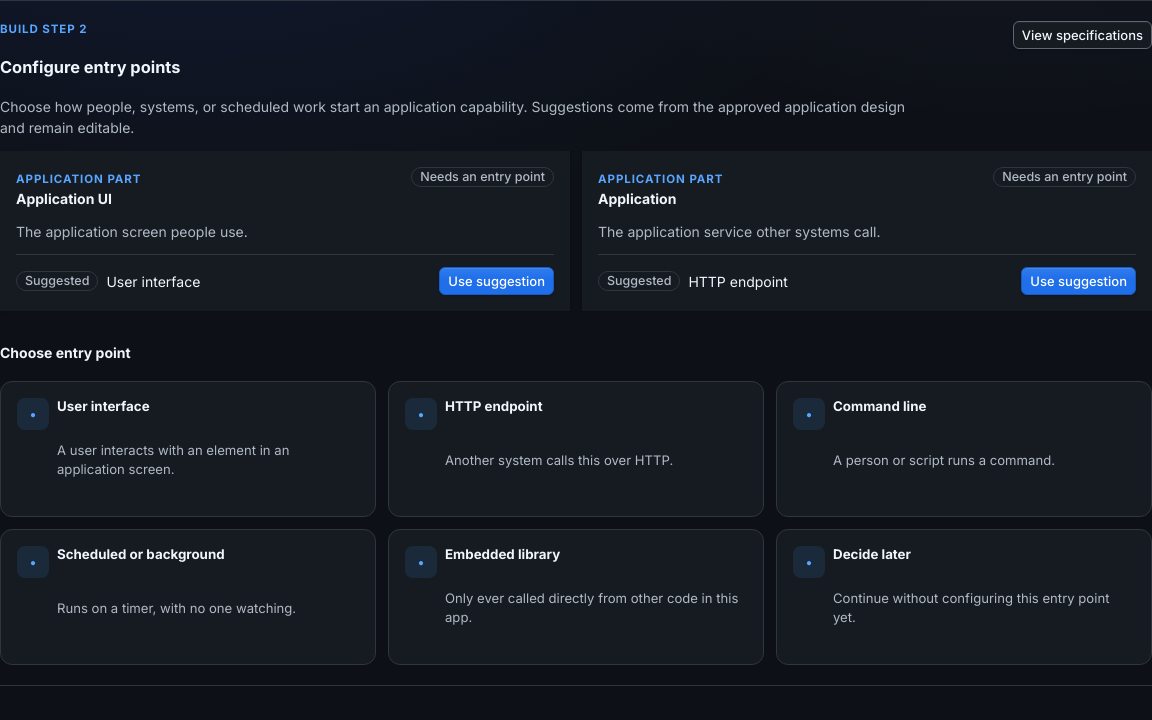
Test: guided connect isolation (WP6B trigger-first) › can configure a different application UI before element binding begins
Click the button "User interface" at (188, 449), box [0, 381, 376, 517]
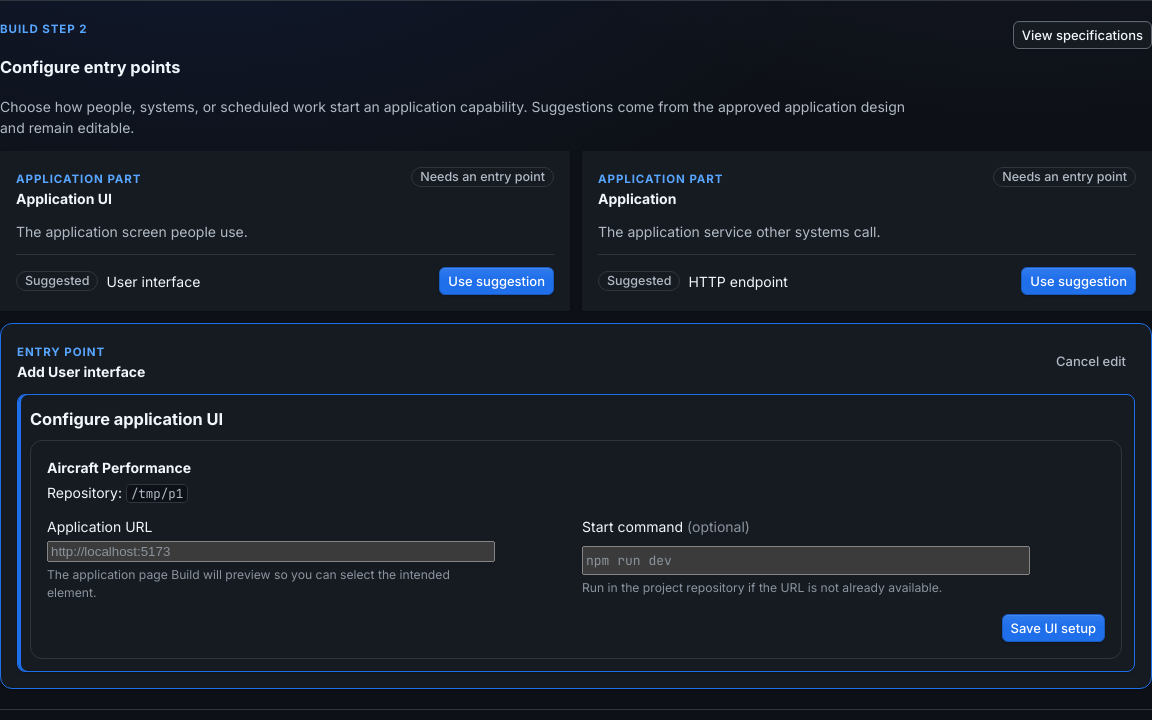
expect the field named "Application UI URL" is shown: met
Type "http://localhost:4400" into the field named "Application UI URL" at (271, 551), box [47, 541, 495, 562]
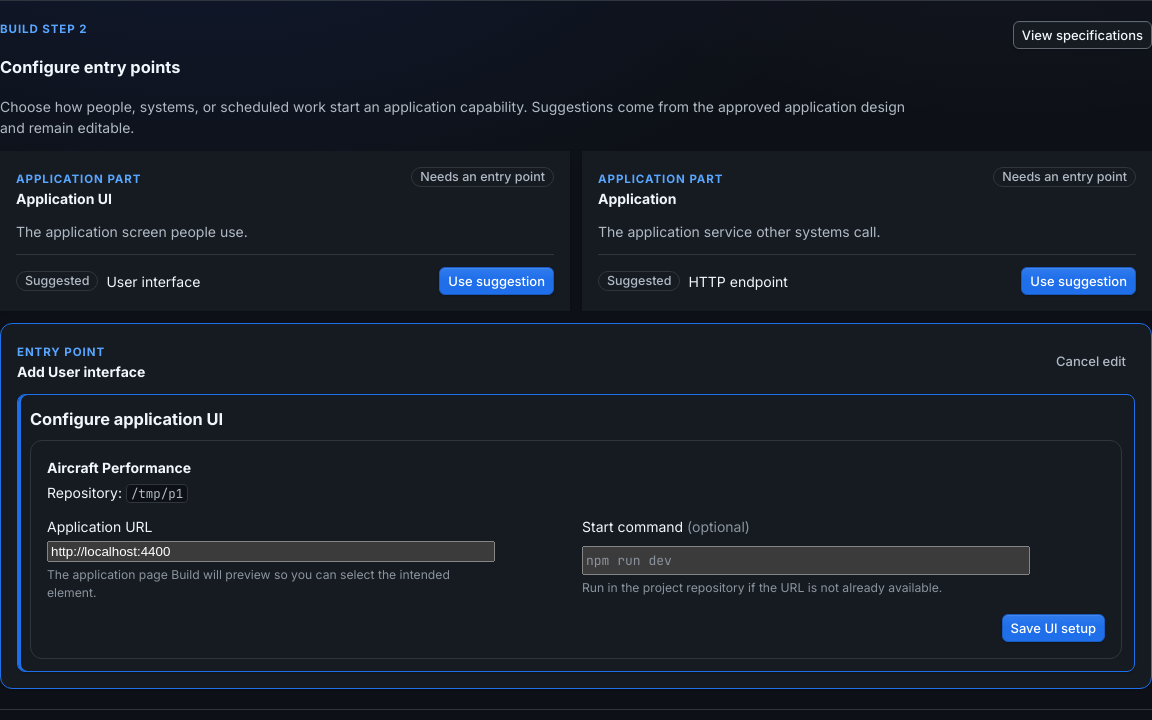
Type "npm run ui" into the field named "UI start command" at (806, 560), box [582, 546, 1030, 575]
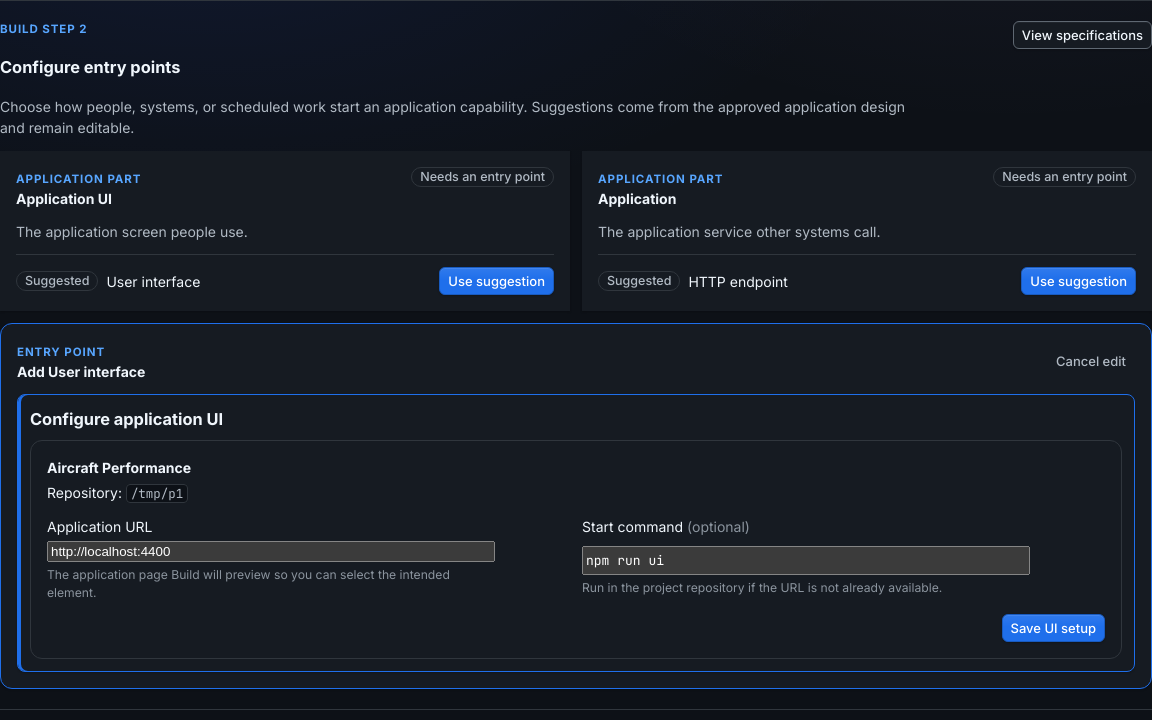
Click the button "Save UI setup" at (1053, 628), box [1002, 614, 1105, 642]
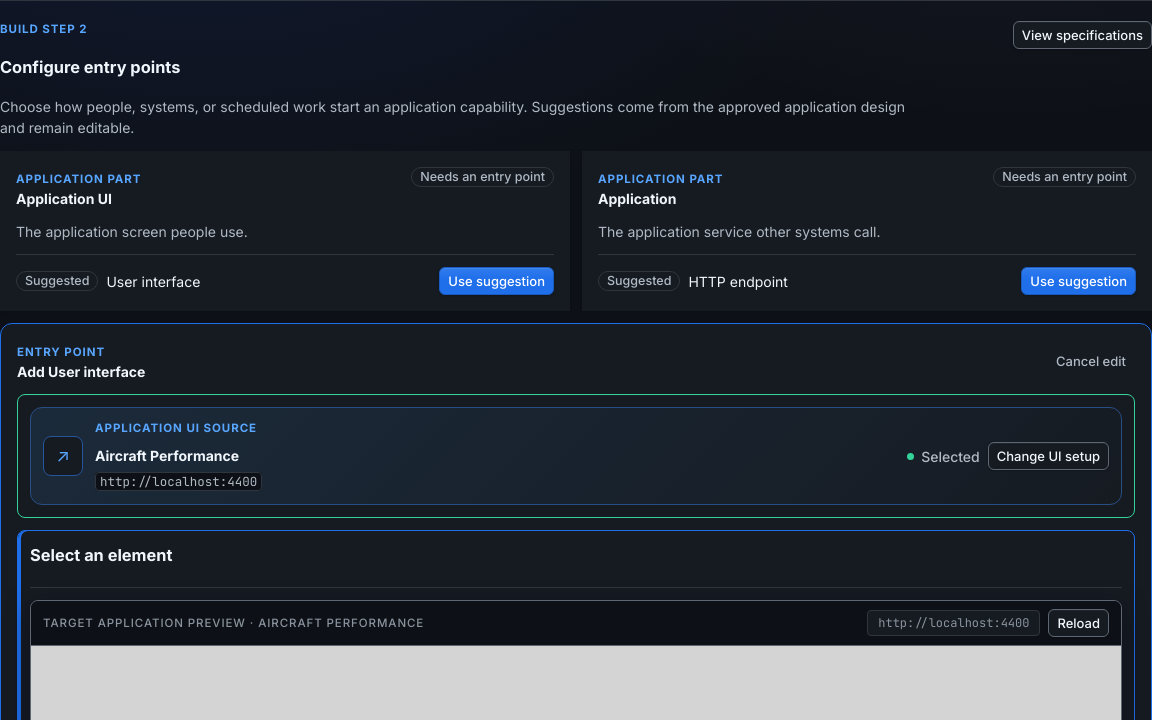
expect the text "Selected" is shown: met, box [907, 446, 980, 467]
